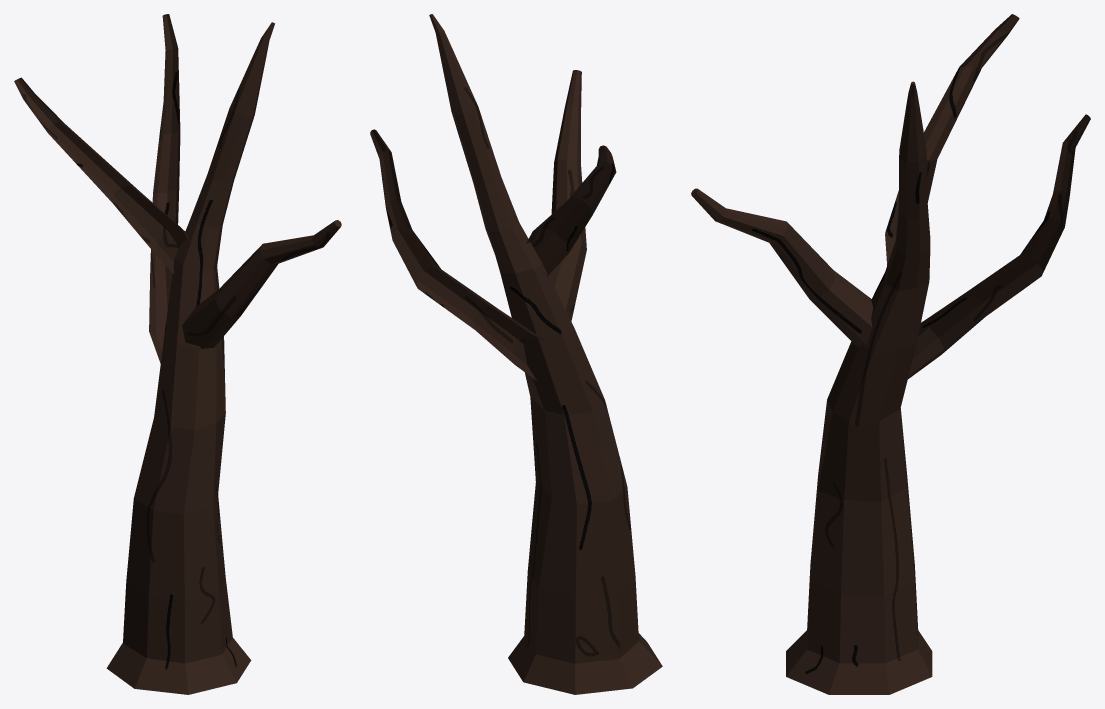
Rendered from SM_MidSTree.fbx.
3 views of the same model, side by side, from view 1: azimuth 30°, elevation 25°; view 2: azimuth 150°, elevation 25°; view 3: azimuth 270°, elevation 25° (orthographic). The views are drawn at different scales.
Parts seen in each view (by area): view 1: SM_MidSTree; view 2: SM_MidSTree; view 3: SM_MidSTree.
Part boxes in pixels (x1,y1,x2,y2): SM_MidSTree: (14,14,341,694); SM_MidSTree: (370,14,662,694); SM_MidSTree: (691,14,1090,694).
Bounding box in the file's own units: 507 × 1353 × 760.
